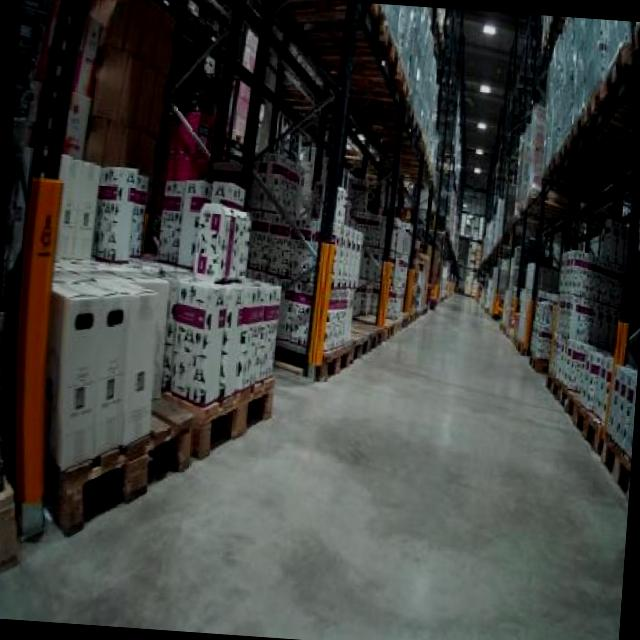pallet: (34, 368, 291, 552), (512, 362, 638, 501)
